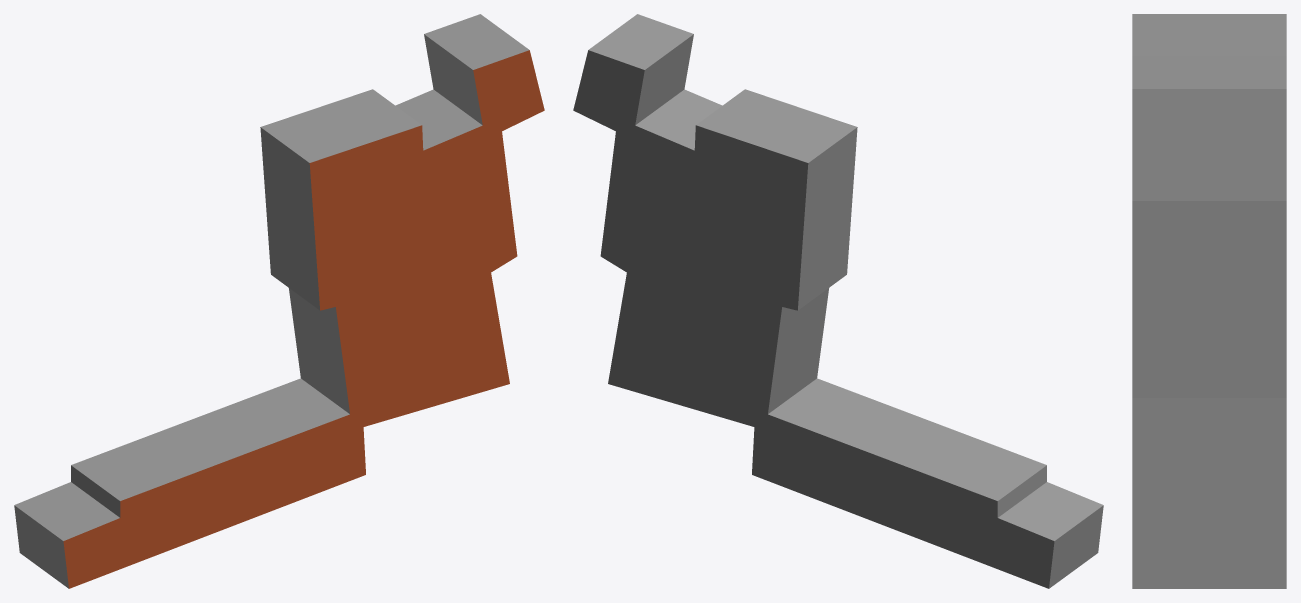
File: construction_4802_assumed_A_Casa_h6m.obj
3 views of the same model, side by side, from view 1: azimuth 30°, elevation 25°; view 2: azimuth 150°, elevation 25°; view 3: azimuth 270°, elevation 25° (orthographic). The views are drawn at different scales.
Visible parts, largest first — view 1: construction_4802_assumed_A_Casa; view 2: construction_4802_assumed_A_Casa; view 3: construction_4802_assumed_A_Casa.
Part boxes in pixels (x1,y1,x2,y2): construction_4802_assumed_A_Casa: [14, 14, 544, 588]; construction_4802_assumed_A_Casa: [573, 14, 1103, 588]; construction_4802_assumed_A_Casa: [1132, 14, 1286, 588].
Bounding box in the file's own units: 33.84 × 28.66 × 6.
